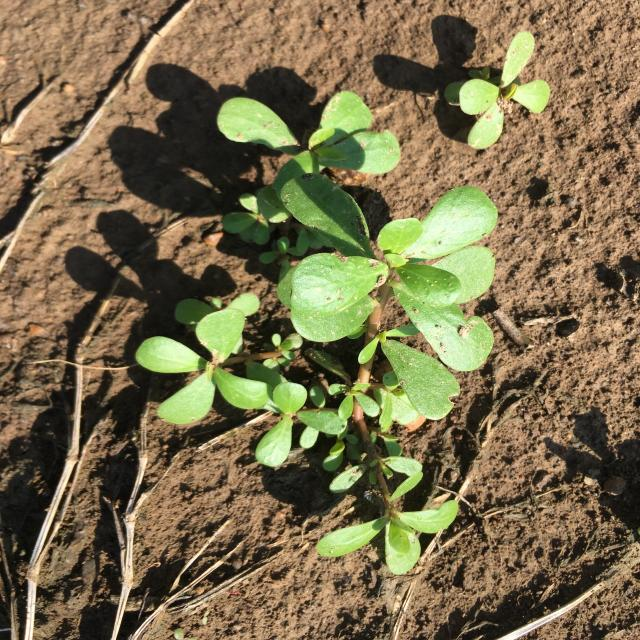Purslane: (135, 91, 498, 575), (444, 31, 550, 149)
